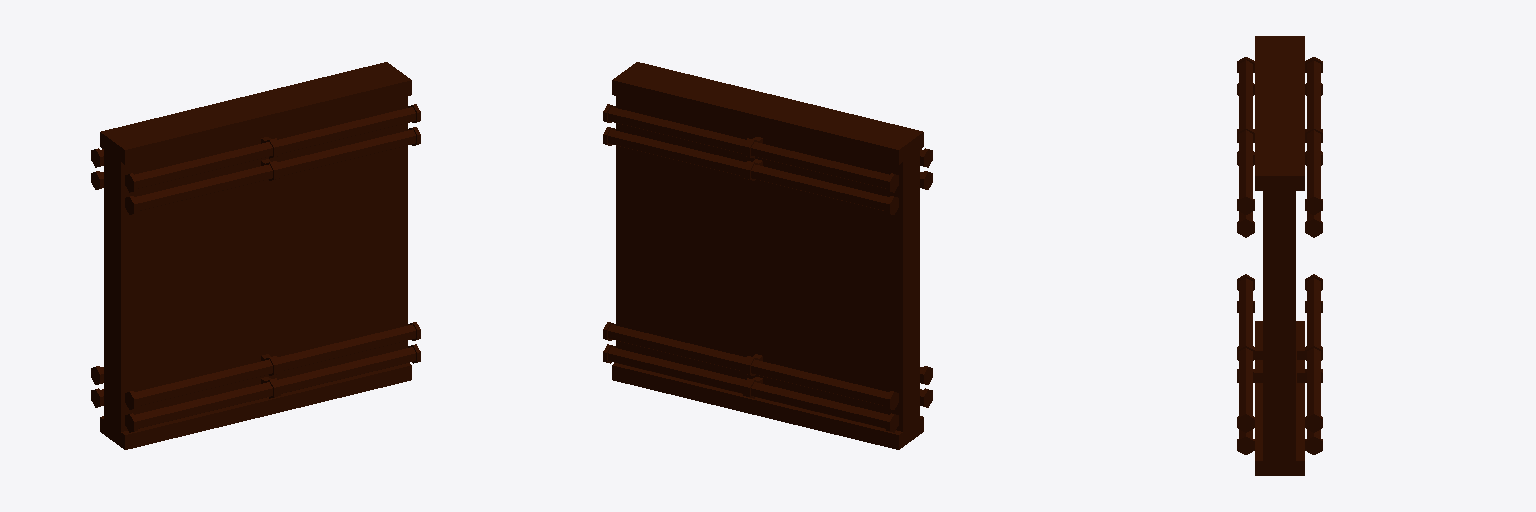
File: 4x4_wall_pipe.obj
The picture shows the model from 3 angles: view 1: azimuth 30°, elevation 25°; view 2: azimuth 150°, elevation 25°; view 3: azimuth 270°, elevation 25°; orthographic projection.
Visible parts, largest first — view 1: wall, gear; view 2: wall, gear; view 3: wall, gear.
Boxes of the visible parts, <box> form: wall: <box>100,62,411,449</box>; gear: <box>91,104,420,432</box>; wall: <box>612,62,923,449</box>; gear: <box>603,104,932,432</box>; wall: <box>1255,36,1304,475</box>; gear: <box>1237,57,1322,454</box>.
Bounding box in the file's own units: 4 × 4 × 1.04.